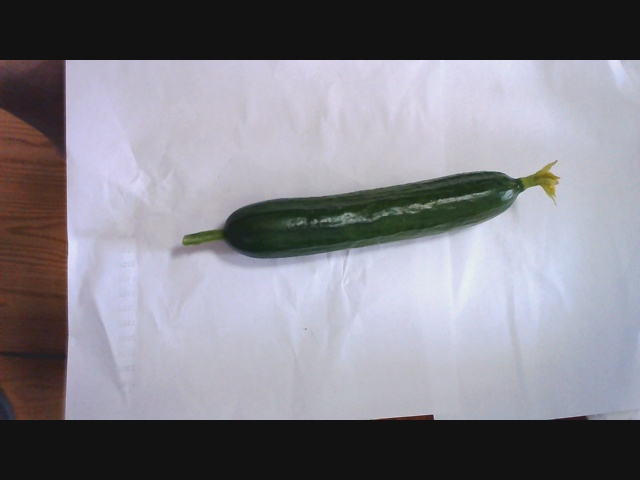cucumber: (175, 164, 566, 255)
